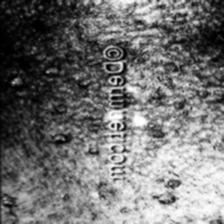Toxin: (130, 0, 224, 224), (13, 0, 99, 173)
